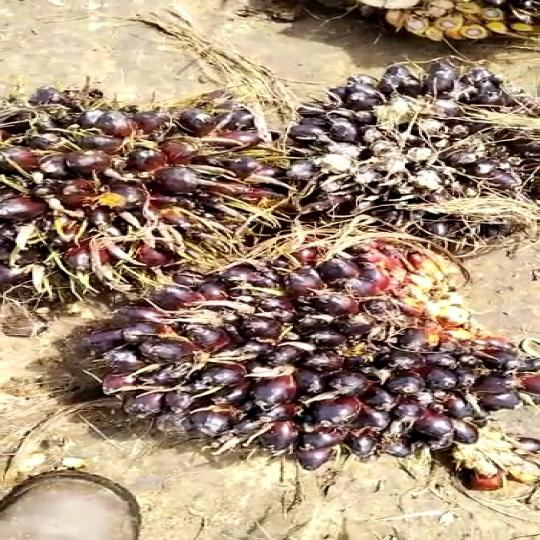mentah: (66, 247, 540, 473), (0, 77, 268, 312), (272, 51, 528, 246)
